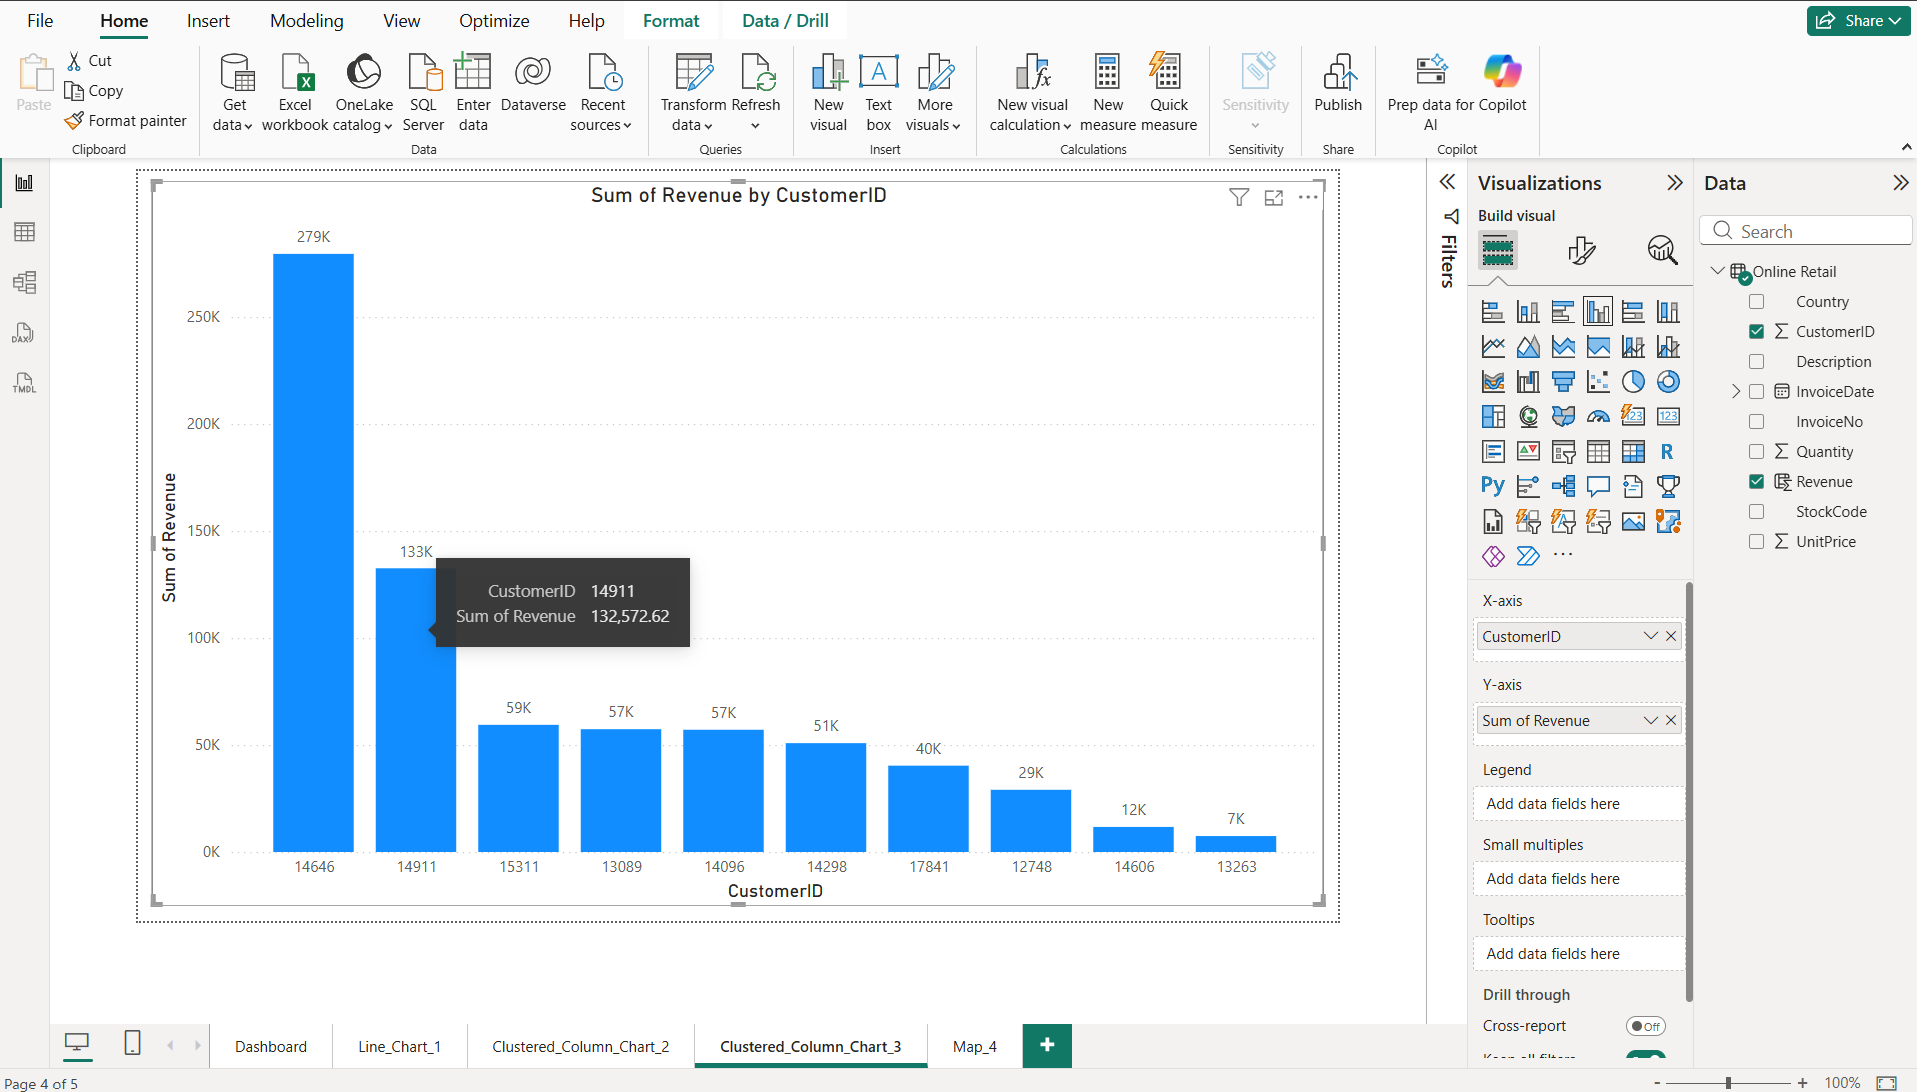

This screenshot's page, from the dashboard's own definition file:
{"tool":"powerbi","page":{"name":"Clustered_Column_Chart_3","canvas":[960,600],"ordinal":3},"visuals":[{"type":"clusteredColumnChart","fields":{"Category":["Online Retail.CustomerID"],"Y":["Sum(Online Retail.Revenue)"]},"box":[11,8,938,580],"z":0}]}

Visuals, with their boxes on the page's 960x600 design canvas (x1, y1, x2, y2). These are canvas units, not pixel positions in the 1917x1092 screenshot, which may show the page scaled, cropped or inside an application window:
clusteredColumnChart - Online Retail.CustomerID x Sum(Online Retail.Revenue): (11, 8, 949, 588)
